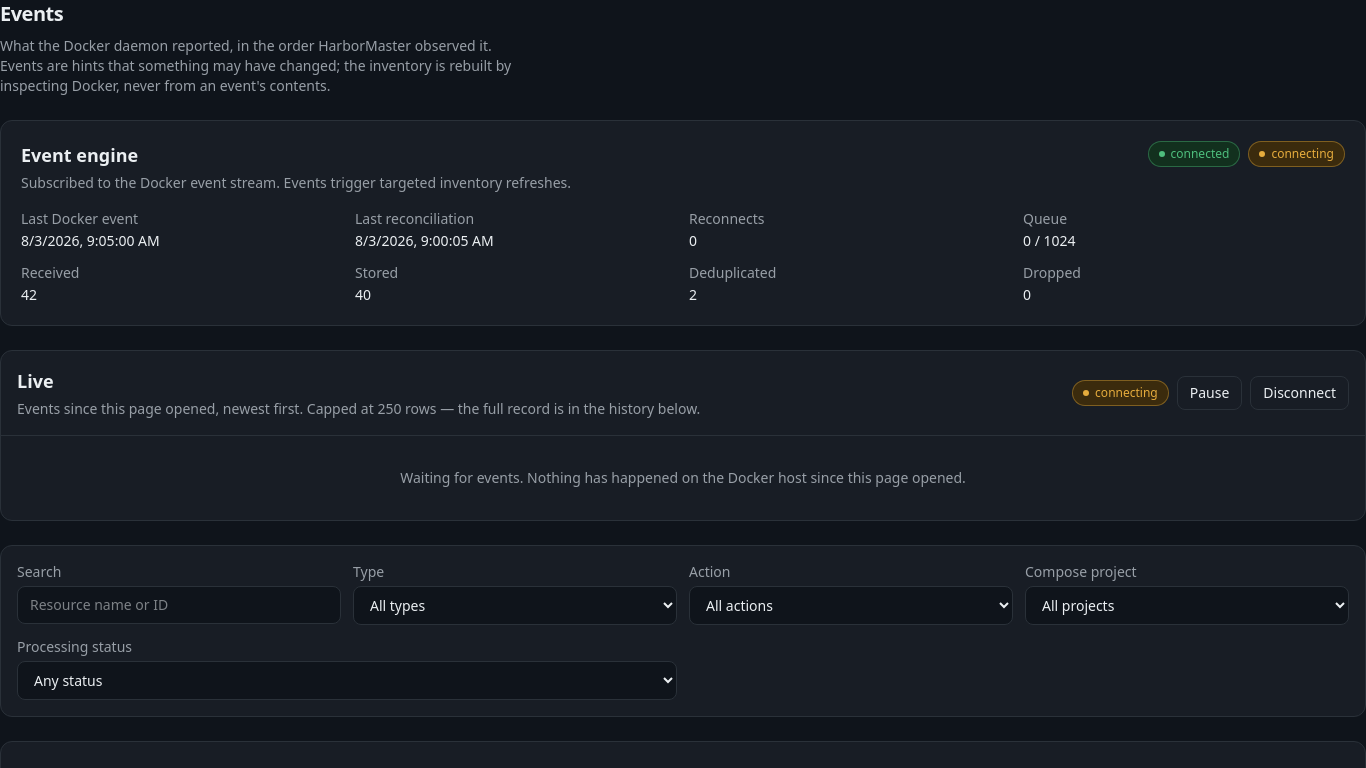
Test case: Events history › shows a filtered empty state distinct from the unfiltered one
The image size is (1366, 768).
Select "volume" in the dropdown labelled "Type" at (515, 606), box [353,586,677,625]
(page scrolled)
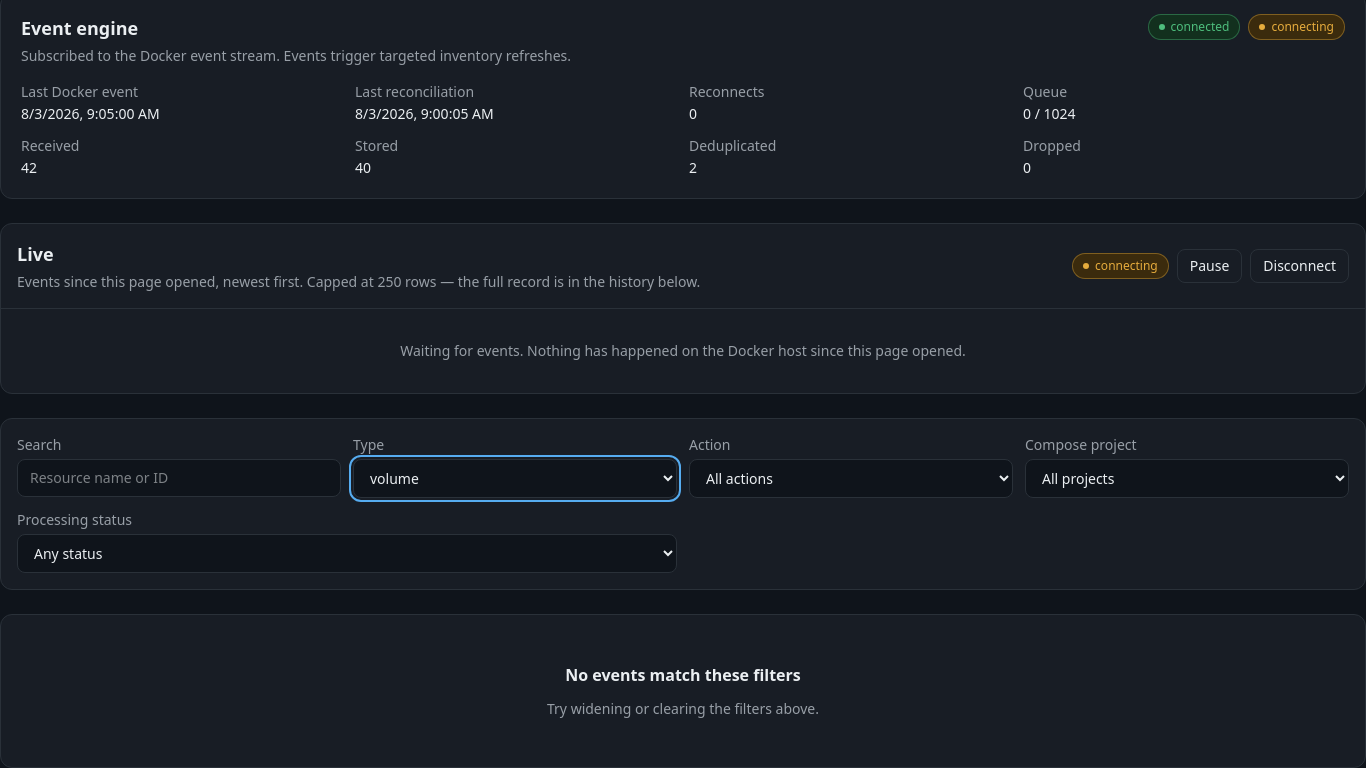
Result: the heading "No events match these filters" is shown at [565,663,801,687]
